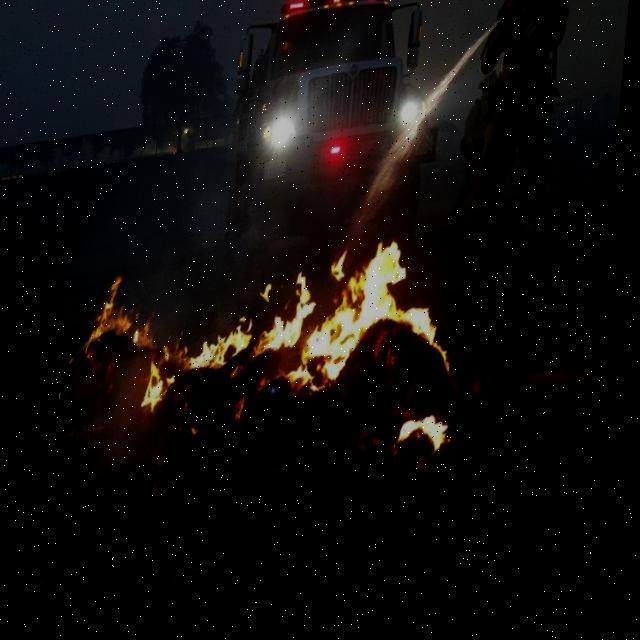Fire: (144, 237, 487, 452), (86, 267, 167, 368), (406, 422, 462, 482)
